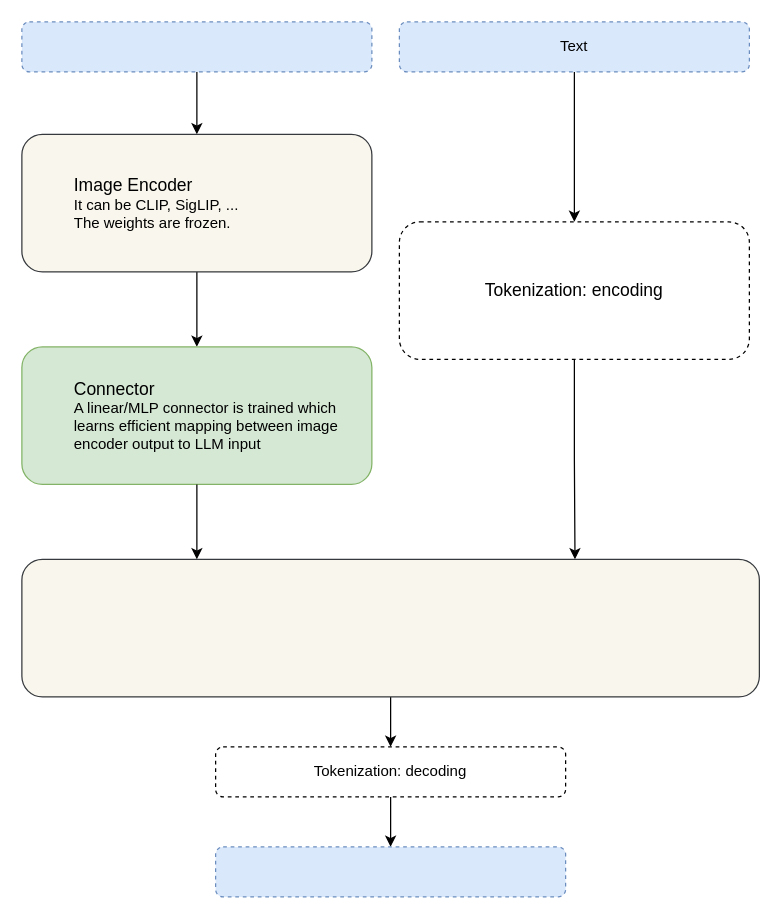
Some shapes in this 781 by 919 pixel diagram are drawn without their labels. Each missing label, with the centre of its shape:
"Image" goes at [196,46].
"LLM It can be llama, deepseek, etc... The weights are frozen." goes at [390,627].
"Output: Text" goes at [390,871].
